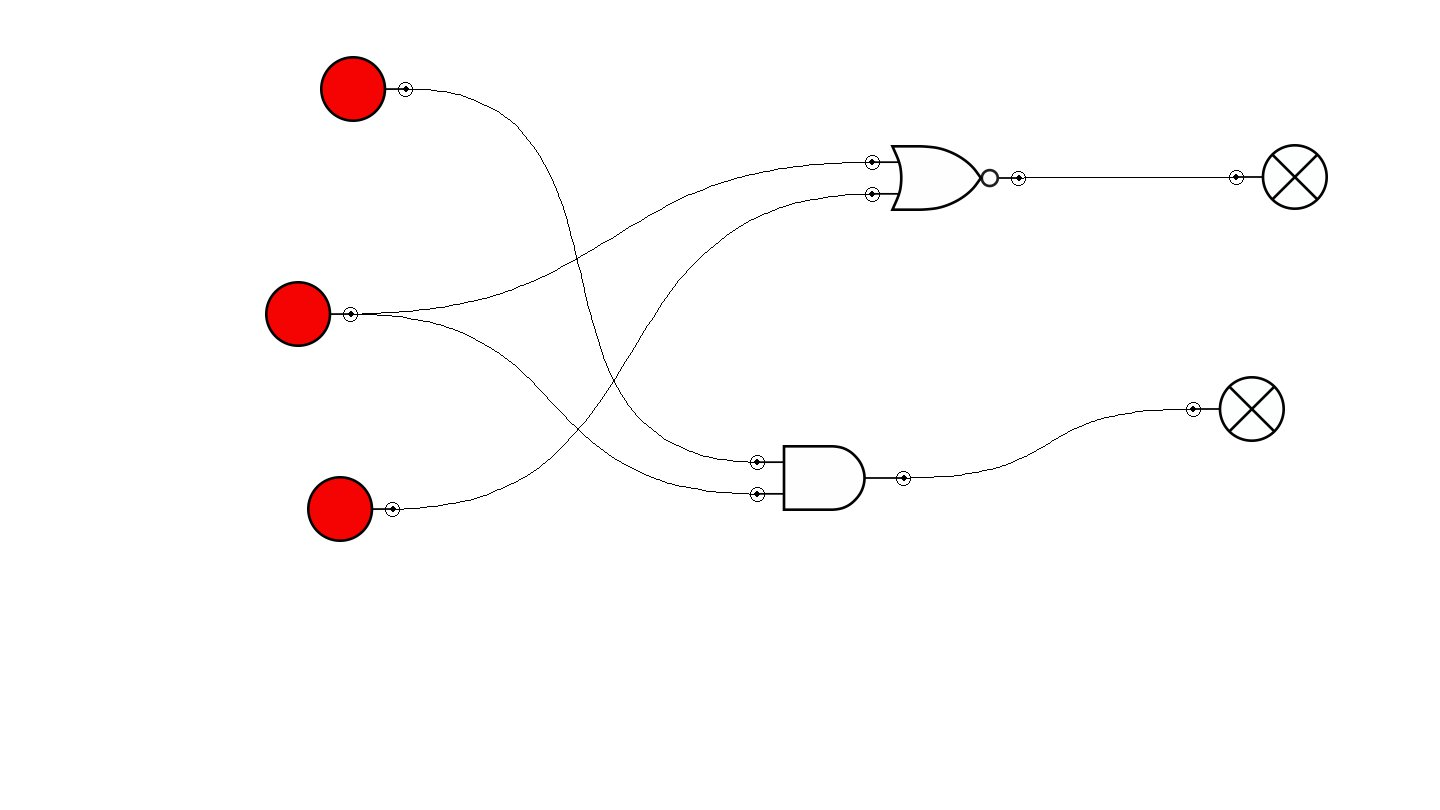and: (750, 445, 911, 511)
bulb: (1186, 376, 1285, 442), (1229, 144, 1328, 210)
nor: (865, 145, 1026, 211)
switch_False: (320, 56, 413, 122), (307, 476, 400, 542), (265, 281, 358, 347)
